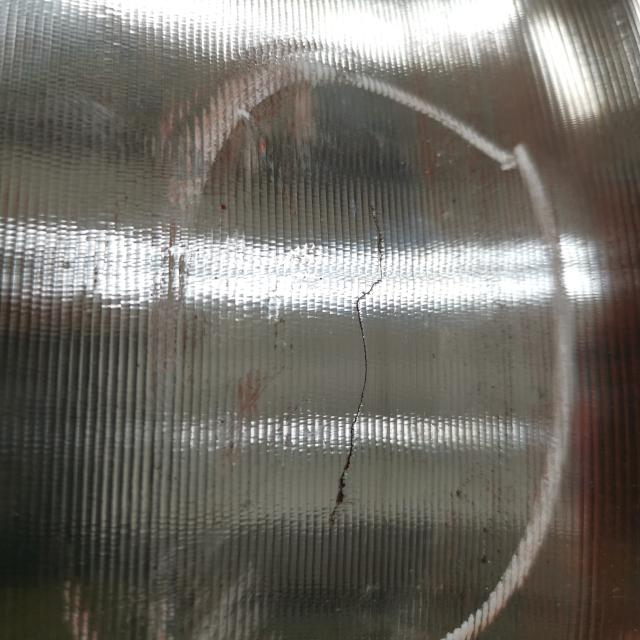Contact_Fatigue_Cracks: (330, 204, 385, 518)
